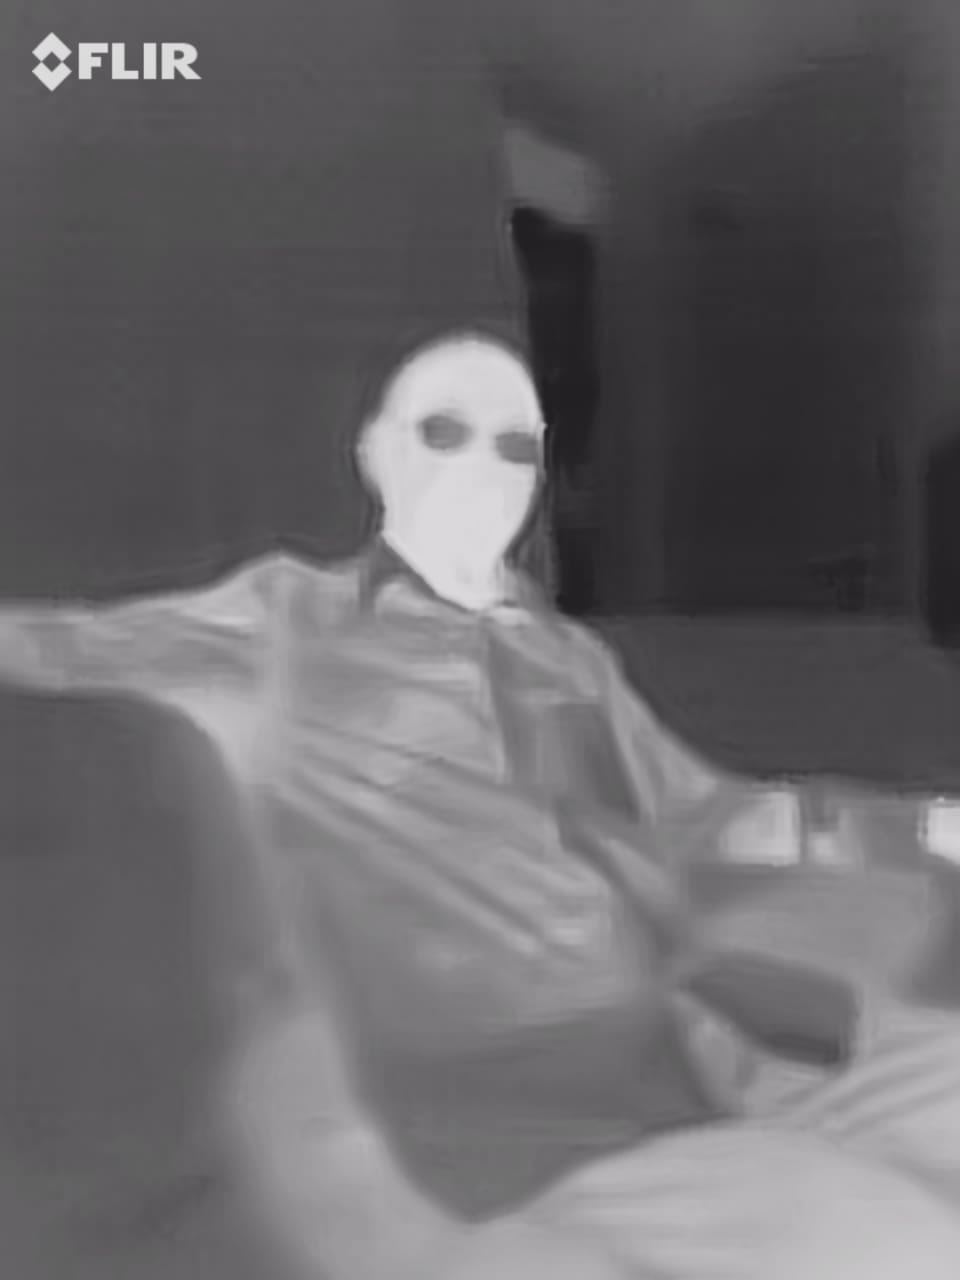head: (333, 314, 556, 600)
